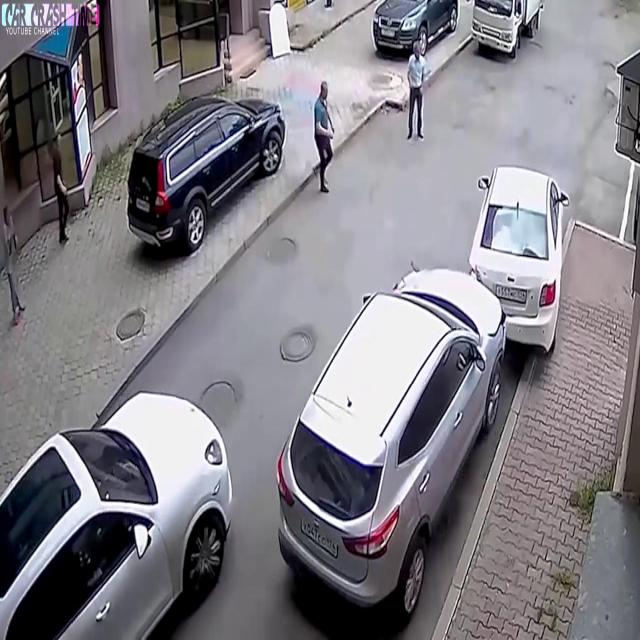accident: (270, 155, 575, 640)
